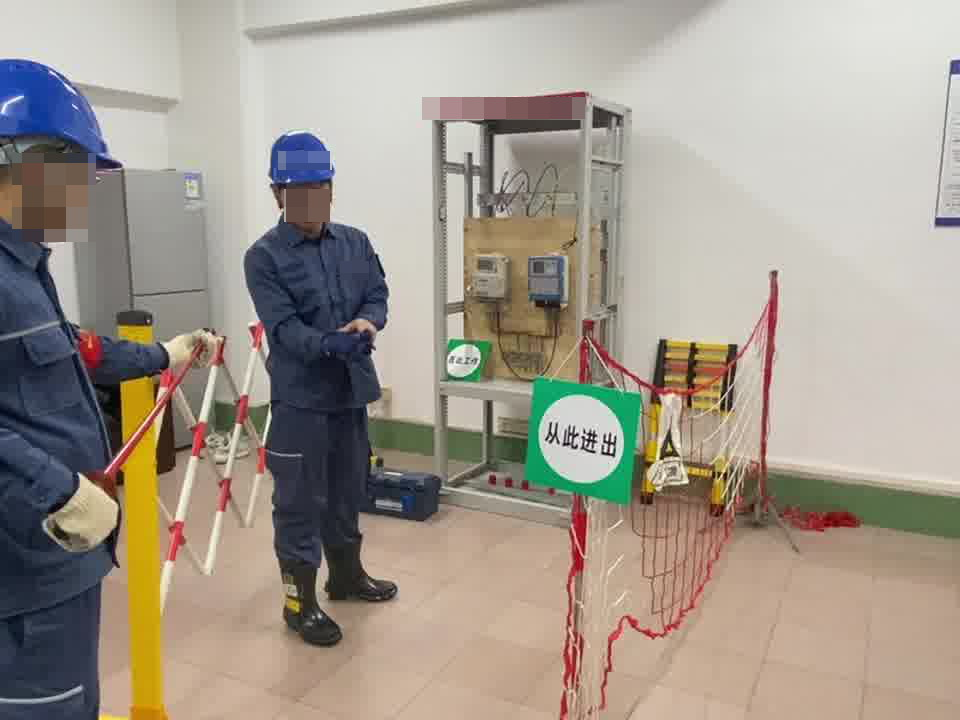badge: (72, 324, 104, 367)
downsuit: (1, 477, 124, 720), (265, 417, 376, 615)
glove: (319, 333, 371, 362)
halt: (1, 55, 118, 243), (266, 132, 339, 228)
hand: (344, 319, 373, 334)
inear: (1, 133, 70, 219)
intosign: (527, 378, 633, 500)
person: (1, 68, 174, 720), (239, 130, 402, 647)
shoe: (281, 531, 397, 645)
testroad: (63, 313, 222, 515)
upsuit: (1, 218, 168, 548), (246, 222, 389, 405)
wglove: (46, 479, 121, 552), (163, 324, 220, 369)
worksign: (444, 336, 492, 382)
